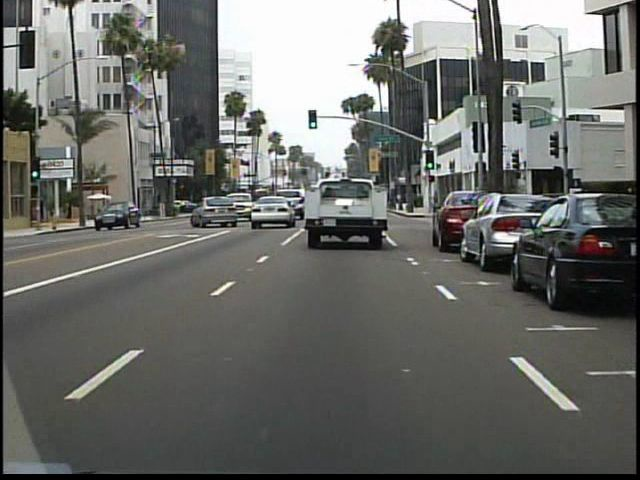person: (429, 188, 443, 217)
